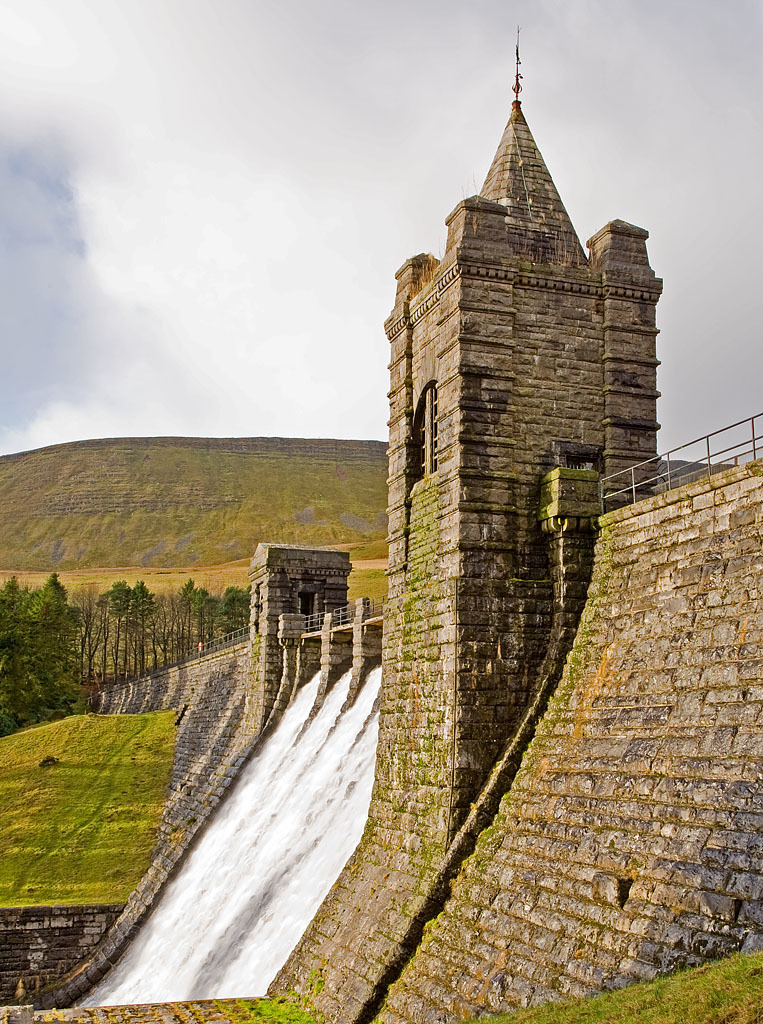Tree: (69, 572, 248, 689), (3, 570, 74, 693)
